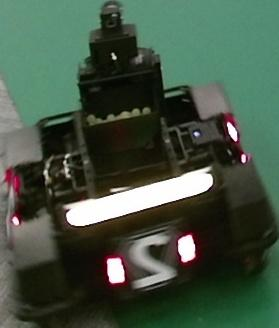armor_2: (106, 234, 196, 285)
light: (65, 173, 214, 226)
